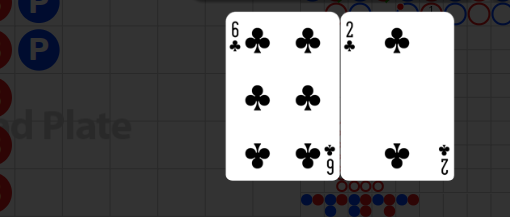2C: (437, 142, 451, 176)
6C: (228, 20, 243, 55)
